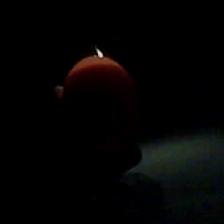fertile: (60, 55, 140, 152)
